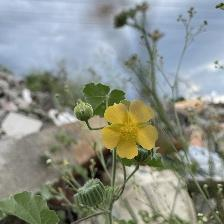indian mallow: (102, 99, 162, 164)
